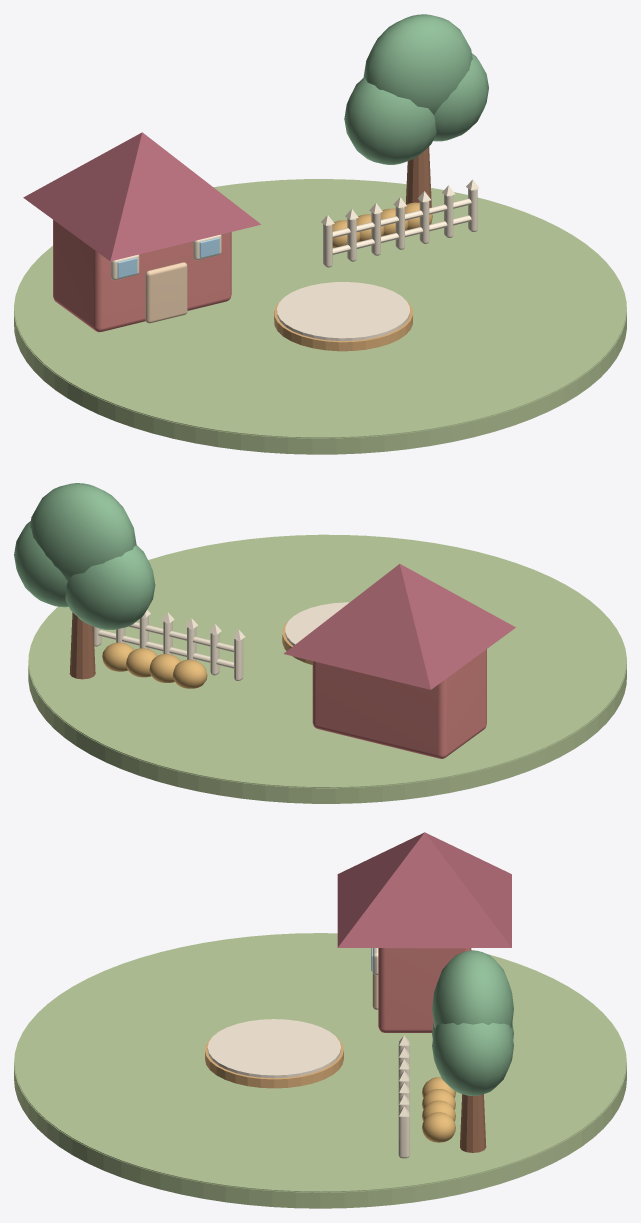
Rendered from fazenda.glb.
The picture shows the model from 3 angles, top to bottom: view 1: azimuth 30°, elevation 25°; view 2: azimuth 150°, elevation 25°; view 3: azimuth 270°, elevation 25°; orthographic projection. The views are drawn at different scales.
Visible parts, largest first — view 1: Diorama piping.008, Gabled roof, Diorama base.008, Barn, Leafy canopy.011, Look pedestal.008, Leafy canopy.009, Leafy canopy.010, Front door, Look pedestal trim.008, Tree trunk.012, Fence rail (+1 smaller); view 2: Diorama piping.008, Gabled roof, Barn, Diorama base.008, Leafy canopy.011, Leafy canopy.009, Leafy canopy.010, Tree trunk.012, Look pedestal.008, Hay bale, Fence rail, Hay bale.003 (+3 smaller); view 3: Diorama piping.008, Gabled roof, Diorama base.008, Look pedestal.008, Barn, Leafy canopy.011, Leafy canopy.010, Look pedestal trim.008, Tree trunk.012, Hay bale.003.
Part boxes in pixels (left/top/right/bottom): Diorama piping.008: left=14, top=179, right=626, bottom=438; Gabled roof: left=23, top=132, right=260, bottom=261; Diorama base.008: left=14, top=264, right=626, bottom=454; Barn: left=53, top=220, right=231, bottom=332; Leafy canopy.011: left=363, top=14, right=472, bottom=114; Look pedestal.008: left=277, top=282, right=409, bottom=340; Leafy canopy.009: left=344, top=78, right=436, bottom=164; Leafy canopy.010: left=433, top=53, right=488, bottom=141; Front door: left=145, top=262, right=187, bottom=323; Look pedestal trim.008: left=274, top=300, right=412, bottom=351; Tree trunk.012: left=405, top=146, right=431, bottom=207; Fence rail: left=332, top=215, right=471, bottom=254; Diorama piping.008: left=29, top=534, right=626, bottom=787; Gabled roof: left=283, top=564, right=515, bottom=689; Barn: left=312, top=649, right=486, bottom=758; Diorama base.008: left=28, top=618, right=626, bottom=803; Leafy canopy.011: left=30, top=483, right=136, bottom=580; Leafy canopy.009: left=65, top=545, right=155, bottom=629; Leafy canopy.010: left=14, top=521, right=68, bottom=607; Tree trunk.012: left=69, top=612, right=95, bottom=679; Look pedestal.008: left=285, top=602, right=349, bottom=645; Hay bale: left=173, top=659, right=207, bottom=688; Fence rail: left=98, top=630, right=233, bottom=668; Hay bale.003: left=102, top=642, right=134, bottom=671; Diorama piping.008: left=14, top=933, right=626, bottom=1192; Gabled roof: left=337, top=832, right=511, bottom=947; Diorama base.008: left=14, top=1023, right=626, bottom=1208; Look pedestal.008: left=207, top=1019, right=340, bottom=1078; Barn: left=378, top=948, right=471, bottom=1032; Leafy canopy.011: left=432, top=950, right=513, bottom=1028; Leafy canopy.010: left=432, top=1023, right=513, bottom=1095; Look pedestal trim.008: left=205, top=1038, right=343, bottom=1088; Tree trunk.012: left=460, top=1094, right=486, bottom=1152; Hay bale.003: left=422, top=1112, right=455, bottom=1142.
Size of what is drawn, in the model's own units: 8.64 by 3.25 by 8.64.
